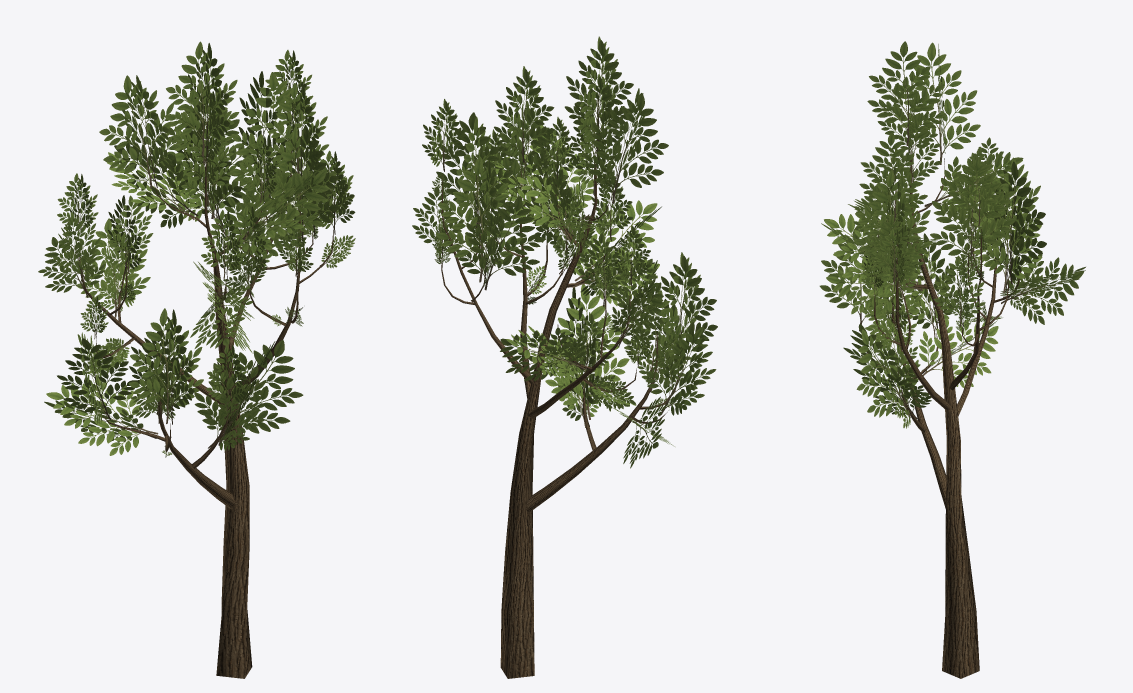
Rendered from Tree9.gltf.
3 views of the same model, side by side, from view 1: azimuth 30°, elevation 25°; view 2: azimuth 150°, elevation 25°; view 3: azimuth 270°, elevation 25° (orthographic). The views are drawn at different scales.
Parts seen in each view (by area): view 1: leaves.009, trunk.009; view 2: leaves.009, trunk.009; view 3: leaves.009, trunk.009.
Boxes of the visible parts, x1,y1,x2,y2 form: leaves.009: (38,41,355,457); trunk.009: (79,129,333,678); leaves.009: (412,36,717,468); trunk.009: (441,149,679,678); leaves.009: (819,41,1085,428); trunk.009: (867,146,1020,678).
Bounding box in the file's own units: 26.76 × 50.78 × 25.21.
Materials: 2 (2 with a texture image).
